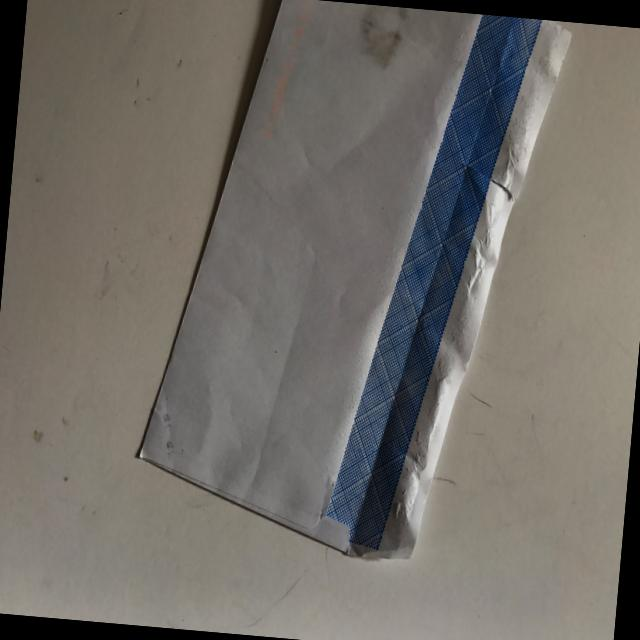Paper: (109, 0, 582, 603)
